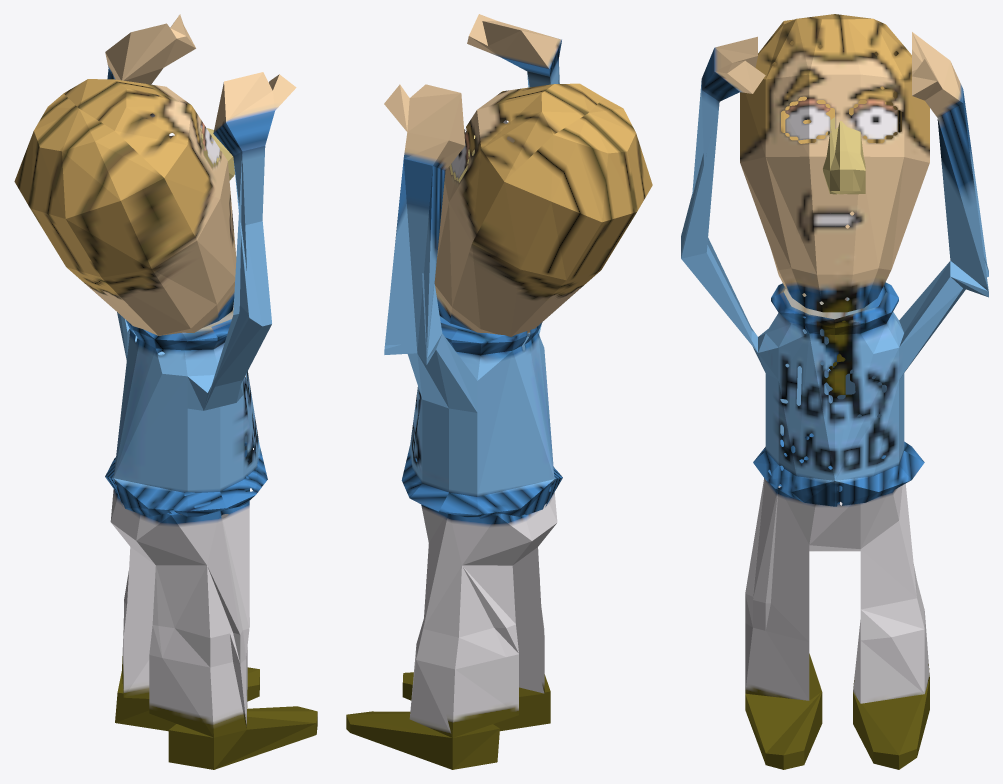
Rendered from PipDrunk.glb.
The picture shows the model from 3 angles, left to right: view 1: azimuth 30°, elevation 25°; view 2: azimuth 150°, elevation 25°; view 3: azimuth 270°, elevation 25°; orthographic projection.
Visible parts, largest first — view 1: PipDrunk; view 2: PipDrunk; view 3: PipDrunk.
Boxes of the visible parts, bbox=[...] form: PipDrunk: bbox=[14, 14, 317, 769]; PipDrunk: bbox=[346, 14, 652, 769]; PipDrunk: bbox=[681, 14, 988, 769].
Size of the model in its own units: 46.26 by 116 by 46.99.
Materials: 1 (1 with a texture image).
